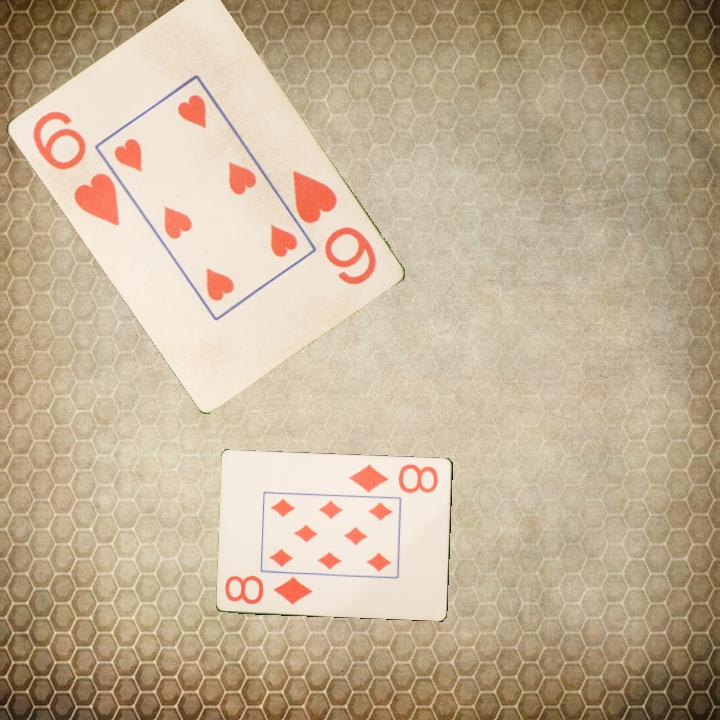6h: (28, 106, 123, 229), (286, 166, 379, 288)
8d: (346, 460, 441, 496), (222, 571, 316, 607)
